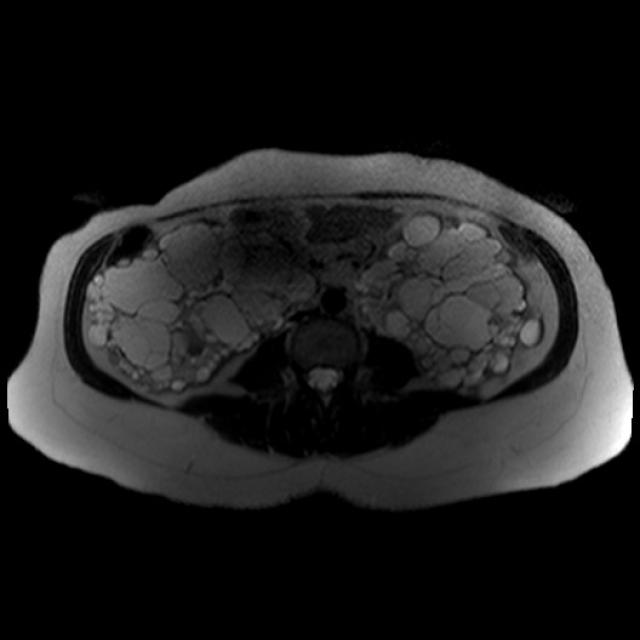sag: (86, 202, 327, 401)
sol: (354, 210, 546, 400)
